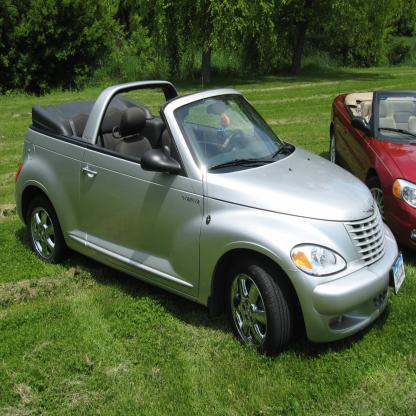Vehicle: (5, 60, 411, 374)
